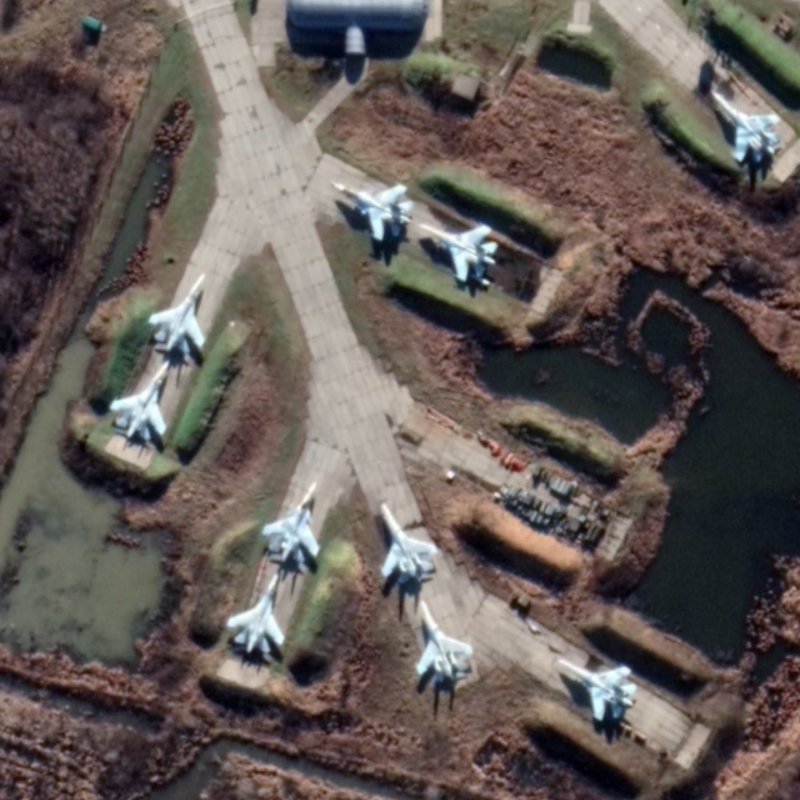A1: (552, 654, 640, 725), (704, 87, 782, 165), (105, 356, 172, 446), (222, 570, 288, 658), (146, 271, 208, 364), (374, 500, 439, 587), (414, 595, 476, 686), (415, 222, 501, 284)
A19: (259, 479, 322, 572), (326, 178, 415, 243)
